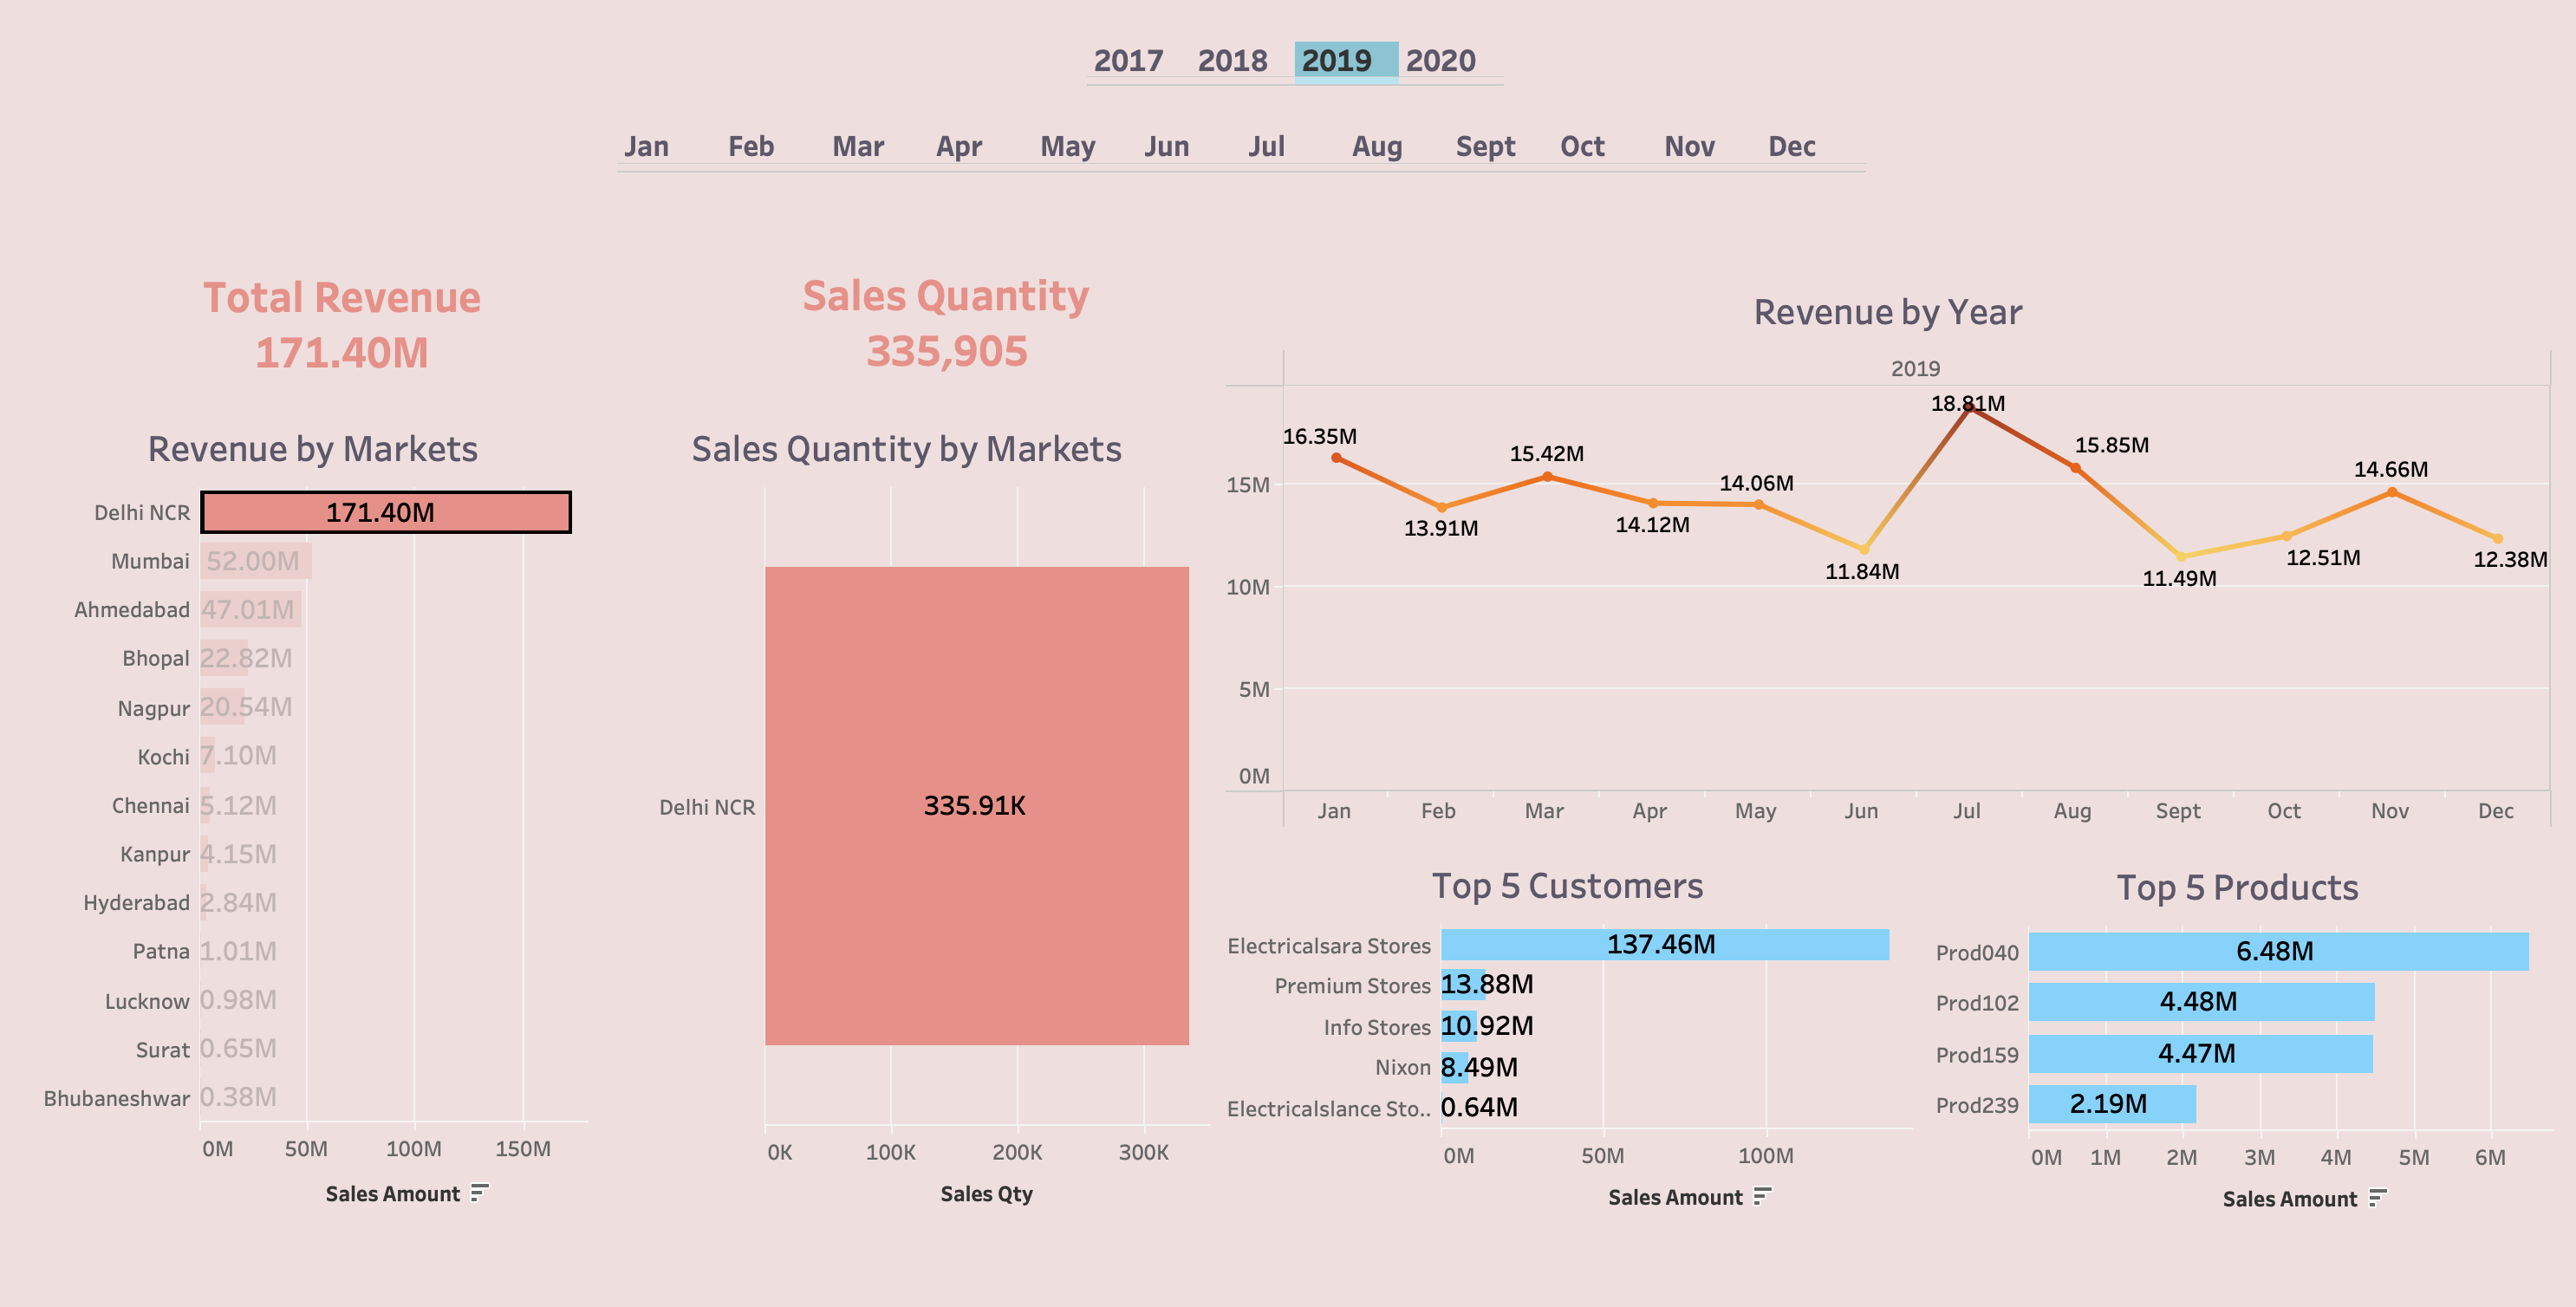

The page's visual inventory and layout, read from the dashboard file:
{"tool":"tableau","page":{"name":"Dashboard - Revenue Analysis","canvas":[1000,1000],"units":"permille","ordinal":1},"visuals":[{"type":"worksheet","title":"Year","mark":"Automatic","cols":["cy_date"],"box":[421.9,32,189.3,96]},{"type":"worksheet","title":"Month","mark":"Automatic","cols":["cy_date"],"box":[239.6,98.4,557.2,101]},{"type":"worksheet","title":"Quantity","mark":"Automatic","box":[307.5,202.9,199.9,122]},{"type":"worksheet","title":"Revenue","mark":"Automatic","box":[72.7,204.2,168.9,96.8]},{"type":"worksheet","title":"Revenue by Year","mark":"Automatic","rows":["Calculation_6357112367826554880"],"cols":["cy_date","cy_date"],"box":[476,211.3,514.7,422.6]},{"type":"worksheet","title":"Revenue by Markets","mark":"Automatic","rows":["markets_name"],"cols":["Calculation_6357112367826554880"],"box":[15.5,316.3,212.5,618.1]},{"type":"worksheet","title":"Sales Quantity by Markets","mark":"Automatic","rows":["markets_name"],"cols":["sales_qty"],"box":[234.9,316.3,234.9,618.1]},{"type":"worksheet","title":"Top 5 Customers","mark":"Automatic","rows":["custmer_name"],"cols":["Calculation_6357112367826554880"],"box":[476,649.6,266.6,286.1]},{"type":"worksheet","title":"Top 5 Products","mark":"Automatic","rows":["product_code (products)"],"cols":["Calculation_6357112367826554880"],"box":[747.3,650.9,244.2,286.1]}]}

Visuals, with their boxes on the dashboard's canvas, which has no fixed pixel size, in thousandths of its width and height (x1, y1, x2, y2). These are canvas units, not pixel positions in the 2576x1307 screenshot, which may show the page scaled, cropped or inside an application window:
"Year" worksheet: {"x1": 422, "y1": 32, "x2": 611, "y2": 128}
"Month" worksheet: {"x1": 240, "y1": 98, "x2": 797, "y2": 199}
"Quantity" worksheet: {"x1": 308, "y1": 203, "x2": 507, "y2": 325}
"Revenue" worksheet: {"x1": 73, "y1": 204, "x2": 242, "y2": 301}
"Revenue by Year" worksheet: {"x1": 476, "y1": 211, "x2": 991, "y2": 634}
"Revenue by Markets" worksheet: {"x1": 16, "y1": 316, "x2": 228, "y2": 934}
"Sales Quantity by Markets" worksheet: {"x1": 235, "y1": 316, "x2": 470, "y2": 934}
"Top 5 Customers" worksheet: {"x1": 476, "y1": 650, "x2": 743, "y2": 936}
"Top 5 Products" worksheet: {"x1": 747, "y1": 651, "x2": 992, "y2": 937}
